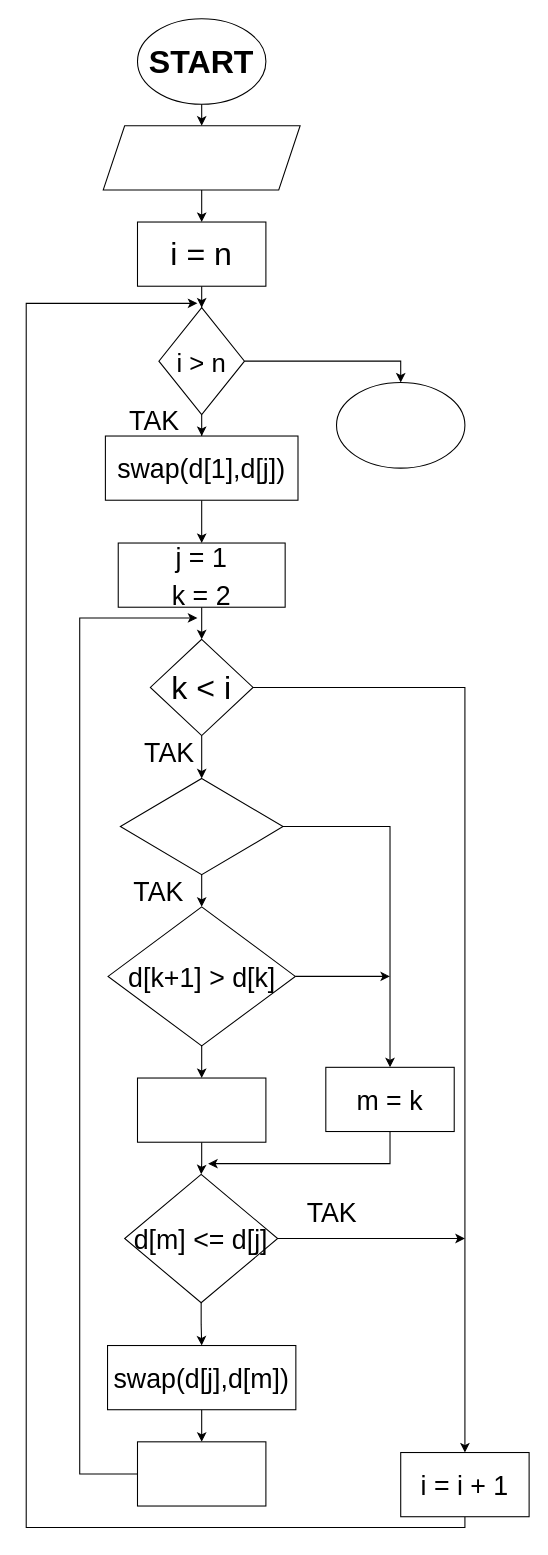
Image size: 548x1555. Some labels were removed from this diagram. Each missing label, with the centre of its shape:
"j = m k = j + j" belongs at (201,1473).
"k + 1 < i" belongs at (201,826).
"KONIEC" belongs at (400,424).
"m = k + 1" belongs at (201,1109).
"podaj d[], n" belongs at (201,157).
